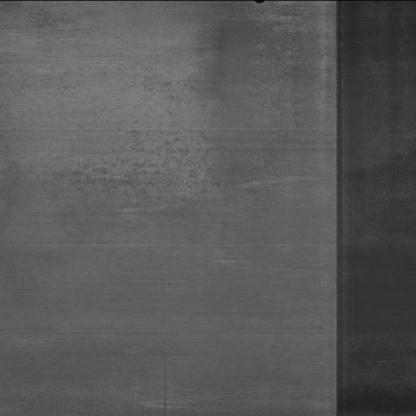punching_hole: (245, 1, 274, 7)
welding_line: (324, 2, 354, 416)
